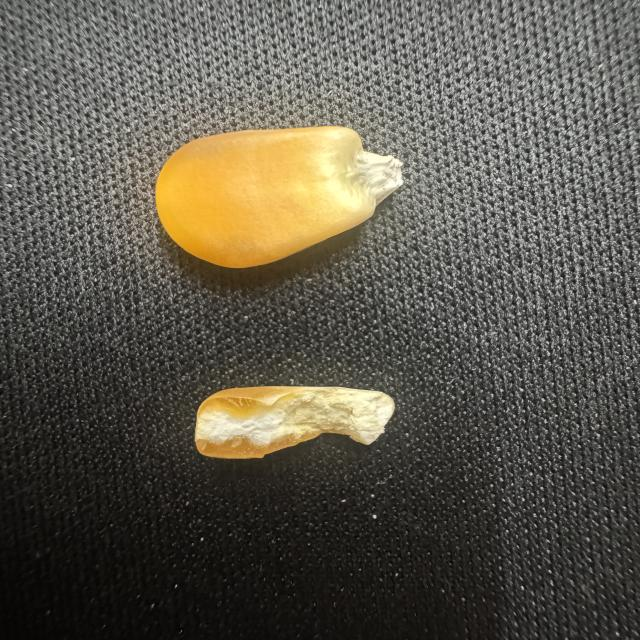Bad-Seed: (191, 381, 402, 473)
Good-Seed: (149, 120, 414, 284)
